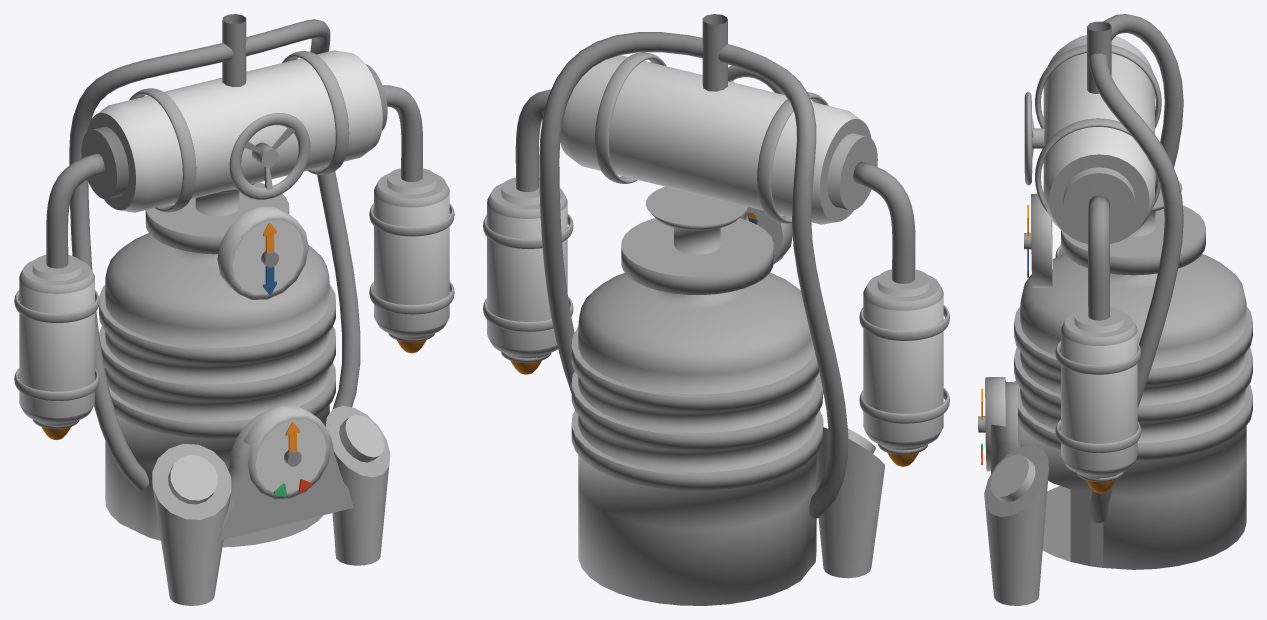
File: -Reactor-.fbx
3 views of the same model, side by side, from view 1: azimuth 30°, elevation 25°; view 2: azimuth 150°, elevation 25°; view 3: azimuth 270°, elevation 25° (orthographic). The views are drawn at different scales.
Visible parts, largest first — view 1: Sphere, Sphere.001, Sphere.002, Eject_Console.Main.005, BezierCurve.002, Eject_Console.Main.002, BezierCurve.003, Eject_Console.Main.004, Cylinder, Eject_Console.Main.001, BezierCircle, Rocket Room 2.052 (+3 smaller); view 2: Sphere, Sphere.001, Sphere.002, BezierCurve.002, BezierCurve.003, Eject_Console.Main.005, BezierCircle, BezierCircle.001, BezierCurve.001, BezierCircle.002, Eject_Console.Main.004; view 3: Sphere, Sphere.001, Sphere.002, Eject_Console.Main.002, BezierCurve.003, BezierCurve.002, BezierCircle, Eject_Console.Main.004, BezierCircle.002, Cylinder, Eject_Console.Main.001, BezierCurve.001 (+2 smaller).
Boxes of the visible parts, x1,y1,x2,y2 form: Sphere: (99,182,335,547); Sphere.001: (19,64,449,425); Sphere.002: (98,50,382,212); Eject_Console.Main.005: (152,444,231,605); BezierCurve.002: (69,43,234,490); Eject_Console.Main.002: (326,406,390,565); BezierCurve.003: (244,19,360,409); Eject_Console.Main.004: (217,206,308,299); Cylinder: (218,406,353,540); Eject_Console.Main.001: (243,406,331,498); BezierCircle: (129,51,349,212); Rocket Room 2.052: (229,113,310,199); Sphere: (571,186,823,605); Sphere.001: (487,89,943,450); Sphere.002: (560,55,860,224); BezierCurve.002: (718,44,848,518); BezierCurve.003: (539,32,703,393); Eject_Console.Main.005: (816,427,884,578); BezierCircle: (595,52,828,223); BezierCircle.001: (859,305,949,423); BezierCurve.001: (702,14,727,91); BezierCircle.002: (483,213,573,331); Eject_Console.Main.004: (740,207,792,264); Sphere: (1014,173,1252,569); Sphere.001: (1049,154,1149,478); Sphere.002: (1043,35,1154,235); Eject_Console.Main.002: (984,445,1048,605); BezierCurve.003: (1089,53,1183,522); BezierCurve.002: (1103,14,1183,167); BezierCircle: (1035,44,1161,212); Eject_Console.Main.004: (1024,193,1052,287); BezierCircle.002: (1055,341,1141,453); Cylinder: (991,382,1017,473); Eject_Console.Main.001: (978,377,1005,471); BezierCurve.001: (1087,21,1111,93).
Bounding box in the file's own units: 3.64 × 4.27 × 2.01.
